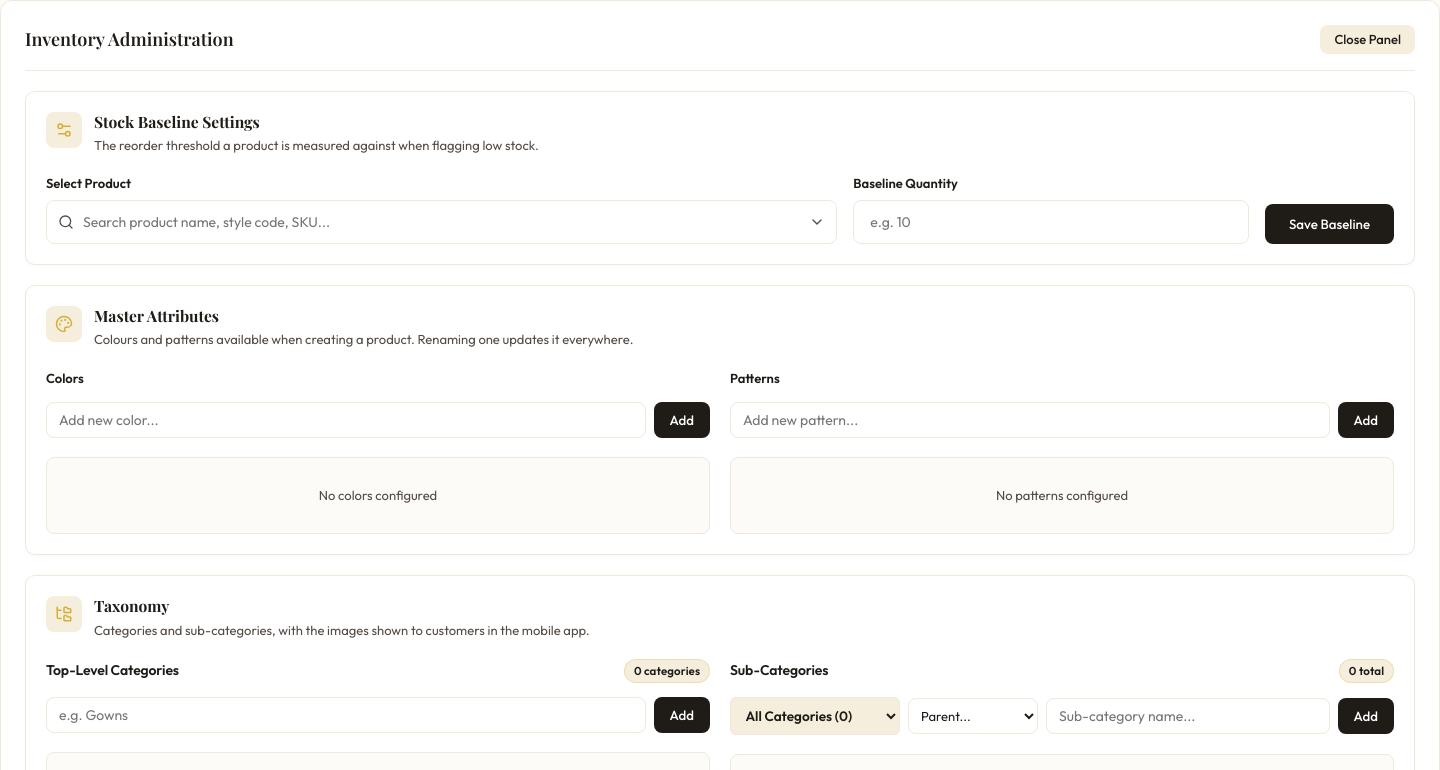
Test: AdminInventoryPanel › populates the baseline field when a product is chosen via searchable combobox
The image size is (1440, 770).
# Focus / type in search combobox to open listbox
Step 1. Focus the dropdown labelled "Select Product" → (442, 222), box [46,200,837,244]
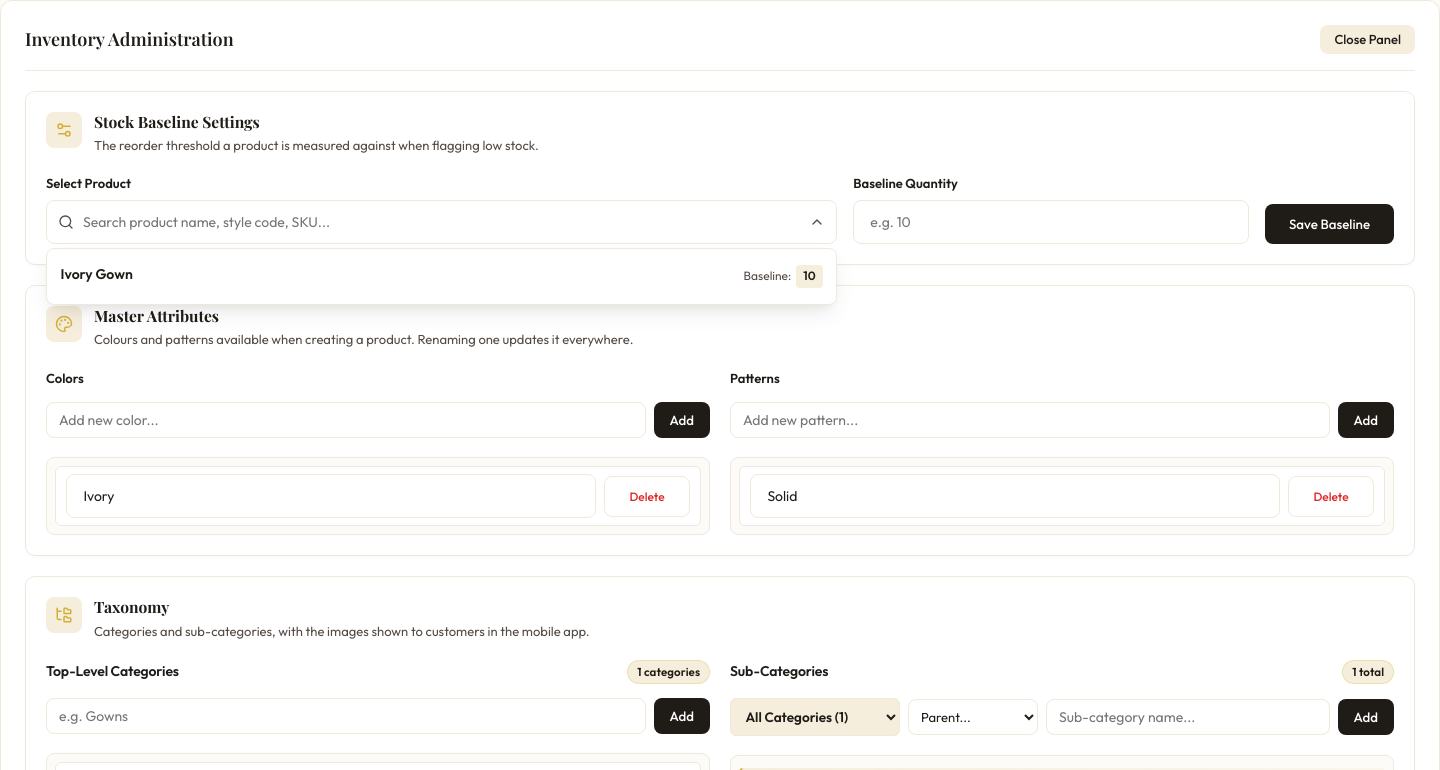
Now the option "Ivory Gown Baseline: 10" is shown
# Select the product
Step 2. Click the option "Ivory Gown Baseline: 10" → (97, 274), box [61,265,823,288]
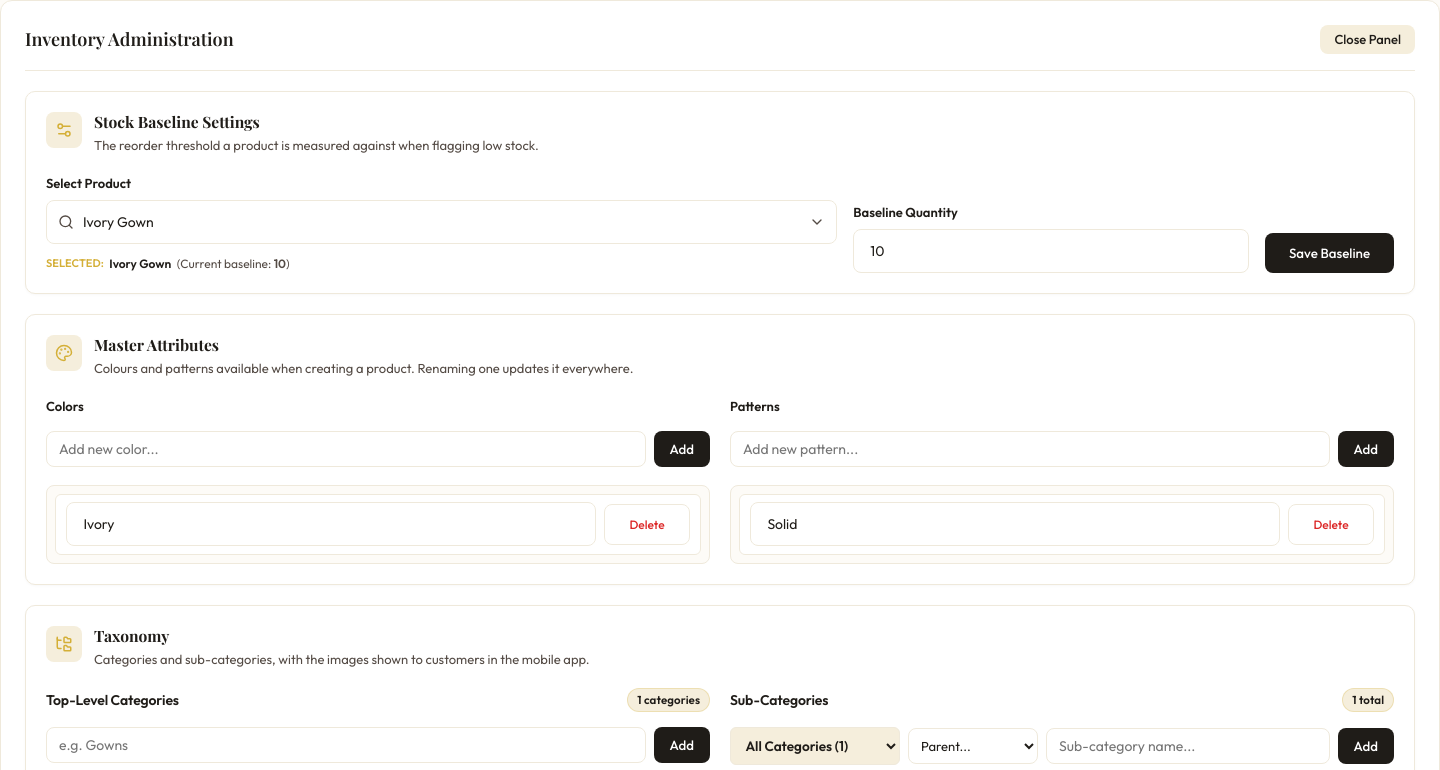
Now the number field labelled "Baseline Quantity" holds "10", box [853,228,1249,272]
Now the text "Selected:" is shown, box [46,255,104,272]
